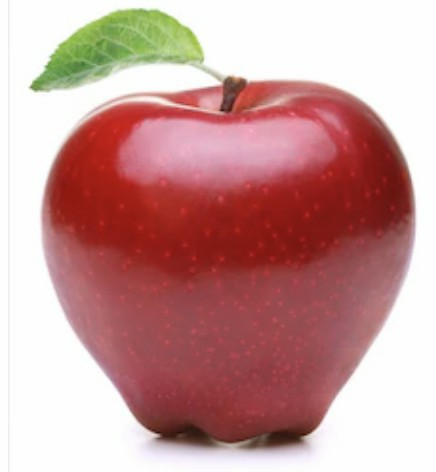fresh_apple: (43, 79, 408, 443)
